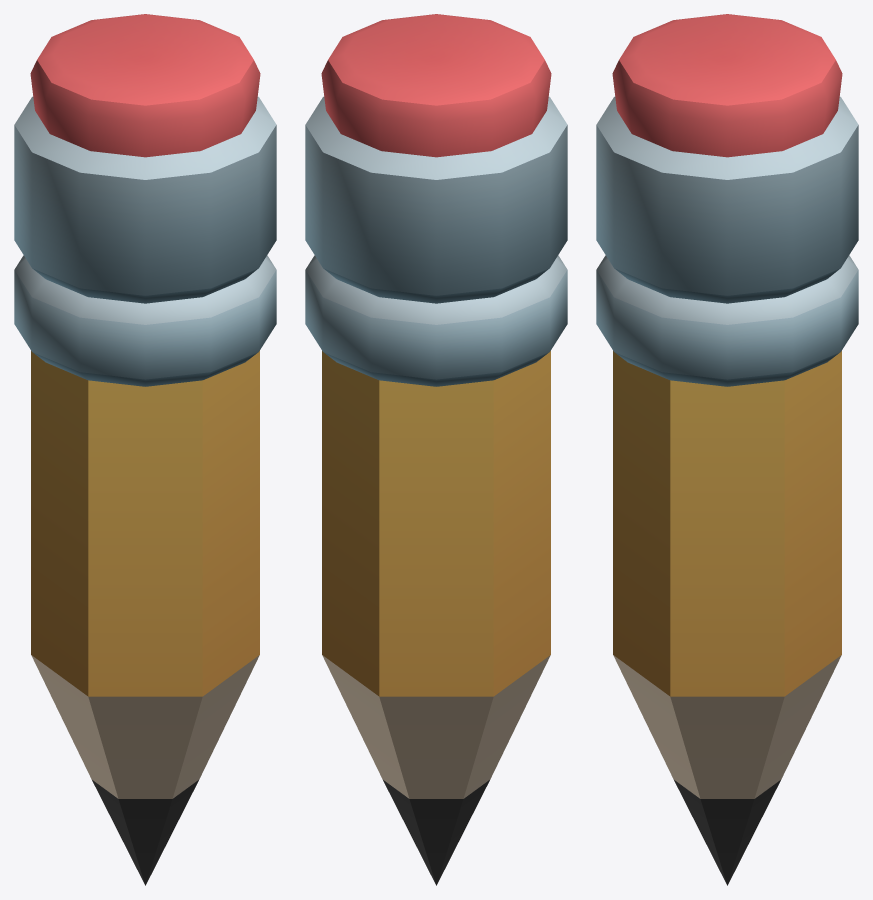
File: pencil_B_short.glb
The picture shows the model from 3 angles, left to right: view 1: azimuth 30°, elevation 25°; view 2: azimuth 150°, elevation 25°; view 3: azimuth 270°, elevation 25°; orthographic projection.
Parts seen in each view (by area): view 1: pencil_B_short; view 2: pencil_B_short; view 3: pencil_B_short.
Part boxes in pixels (bbox=[...]): pencil_B_short: bbox=[14, 14, 276, 885]; pencil_B_short: bbox=[305, 14, 567, 885]; pencil_B_short: bbox=[596, 14, 858, 885].
Bounding box in the file's own units: 0.1138 × 0.3985 × 0.1138.
1 material, 1 textured.
